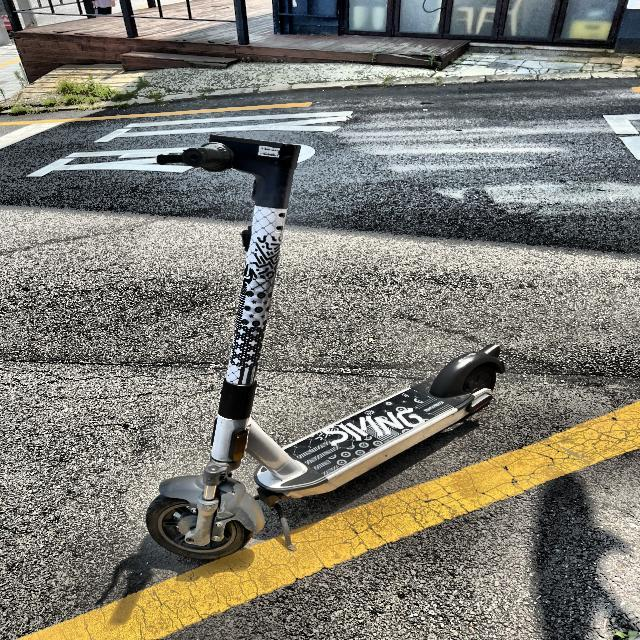bike: (144, 132, 507, 561)
